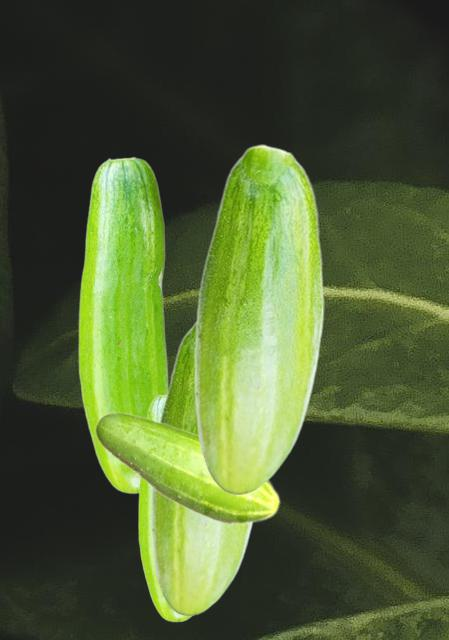cucumber: (193, 144, 323, 494), (78, 156, 169, 493), (150, 321, 254, 615), (94, 411, 280, 525), (138, 394, 192, 621)
